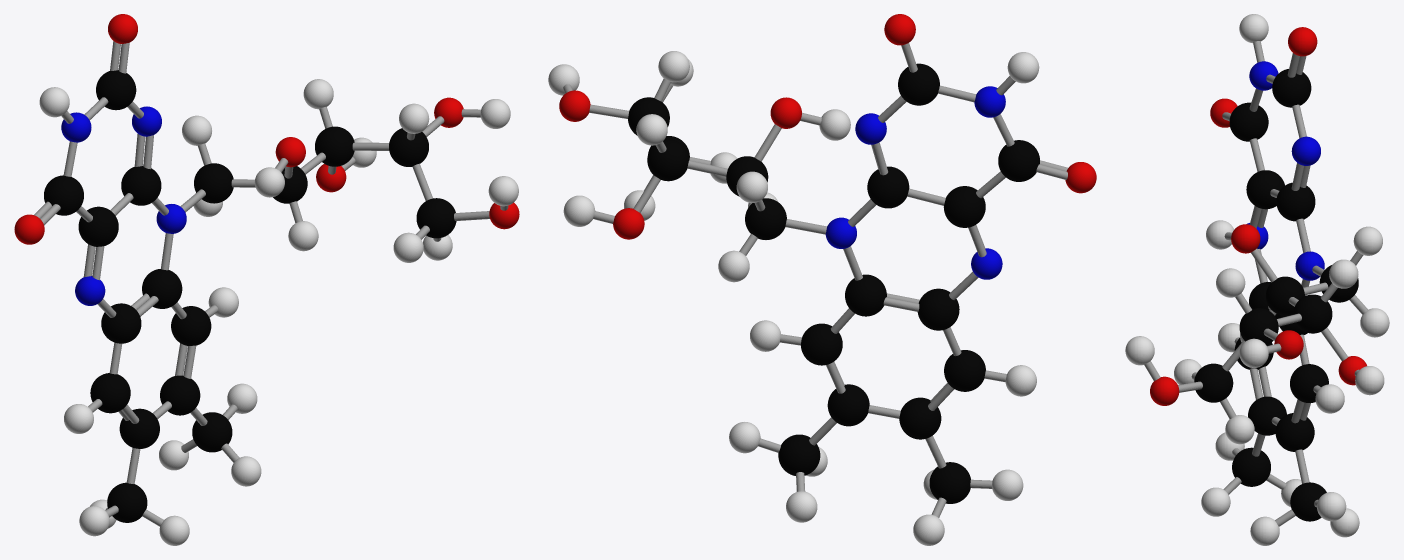
The model's file is SodiumPhosphate.glb.
3 views of the same model, side by side, from view 1: azimuth 30°, elevation 25°; view 2: azimuth 150°, elevation 25°; view 3: azimuth 270°, elevation 25° (orthographic). The views are drawn at different scales.
Visible parts, largest first — view 1: world; view 2: world; view 3: world.
Part boxes in pixels (x1,y1,x2,y2): world: [14, 14, 519, 545]; world: [548, 14, 1096, 545]; world: [1125, 14, 1389, 545].
Bounding box in the file's own units: 11.63 × 11.05 × 5.4.
